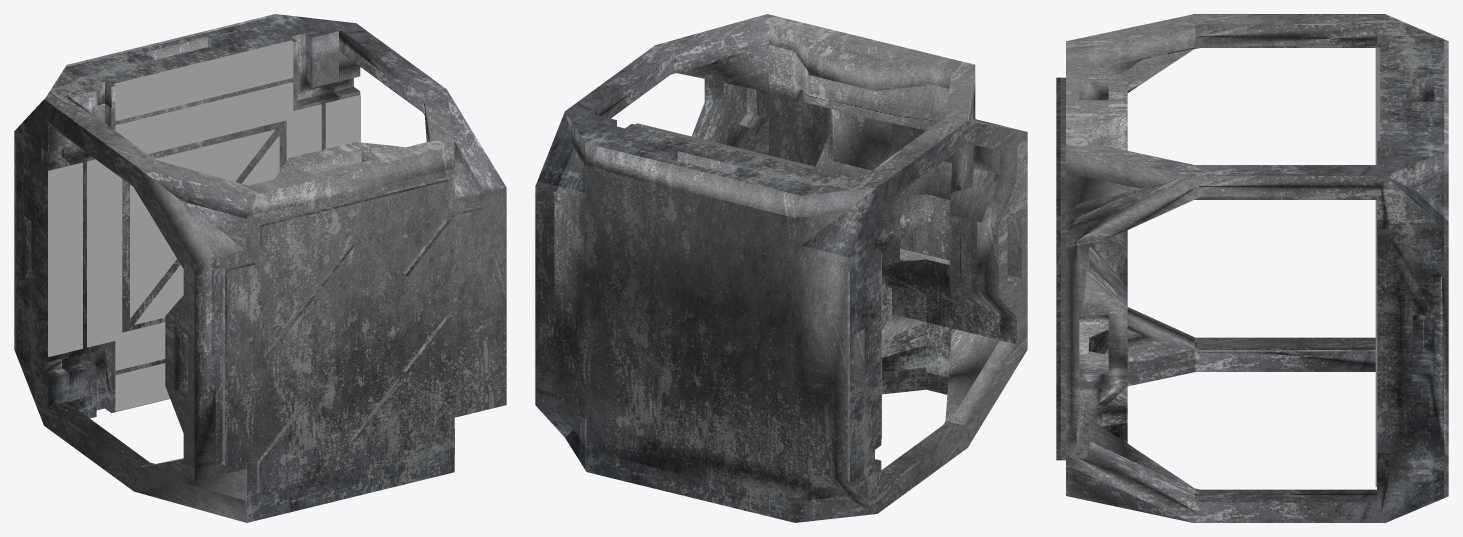
Rendered from Junction.obj.
3 views of the same model, side by side, from view 1: azimuth 30°, elevation 25°; view 2: azimuth 150°, elevation 25°; view 3: azimuth 270°, elevation 25° (orthographic). The views are drawn at different scales.
Parts seen in each view (by area): view 1: Line04, Box876, Box873, Box170, Box877, Box173, Box881, Box879, Box878, Box171, Box875, Box172 (+1 smaller); view 2: Line04, Box876; view 3: Line04, Box171, Box876.
Boxes of the visible parts, x1,y1,x2,y2 form: Line04: (14,14,506,522); Box876: (114,40,293,120); Box873: (48,162,82,356); Box170: (87,159,122,347); Box877: (115,82,293,154); Box173: (130,184,176,318); Box881: (154,130,274,181); Box879: (115,363,169,411); Box878: (115,322,165,370); Box171: (325,95,360,148); Box875: (286,104,321,160); Box172: (135,264,183,324); Line04: (535,14,1027,522); Box876: (635,123,814,168); Line04: (1056,14,1448,522); Box171: (1375,231,1377,446); Box876: (1375,47,1379,164).
Size of the model in its own units: 39.39 by 39.46 by 40.3.
